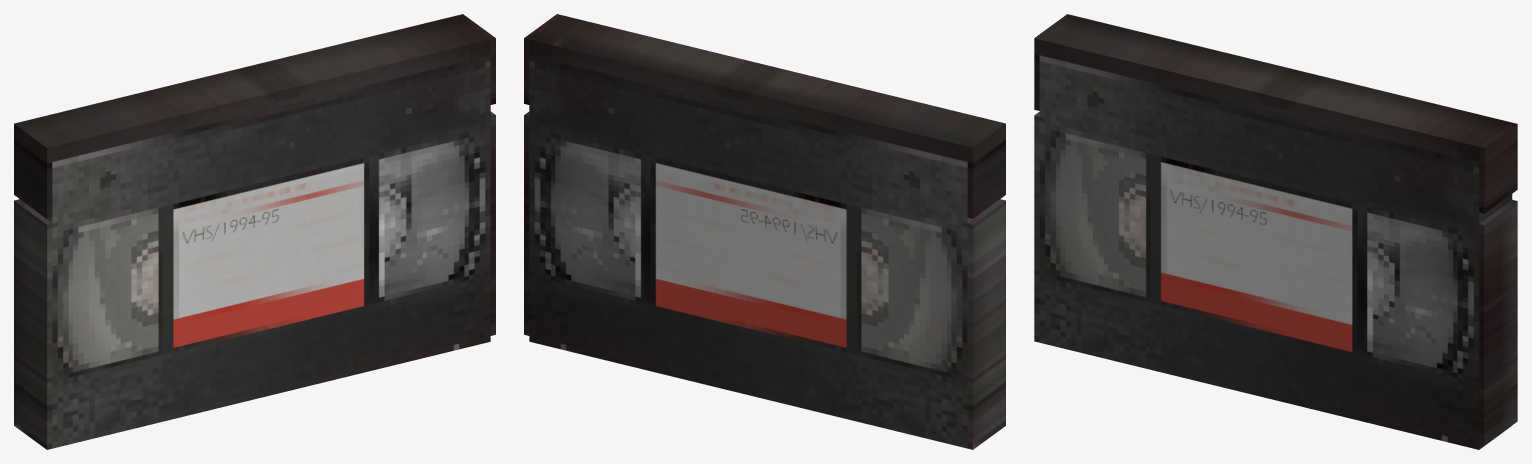
File: tape.glb
3 views of the same model, side by side, from view 1: azimuth 30°, elevation 25°; view 2: azimuth 150°, elevation 25°; view 3: azimuth 330°, elevation 25° (orthographic).
Visible parts, largest first — view 1: tape1; view 2: tape1; view 3: tape1.
Boxes of the visible parts, box(x1,y1,x2,y2) form: tape1: box(14, 14, 495, 449); tape1: box(524, 14, 1005, 449); tape1: box(1034, 14, 1517, 449).
Size of the model in its own units: 1 by 0.6434 by 0.1274.
Materials: 1 (1 with a texture image).
